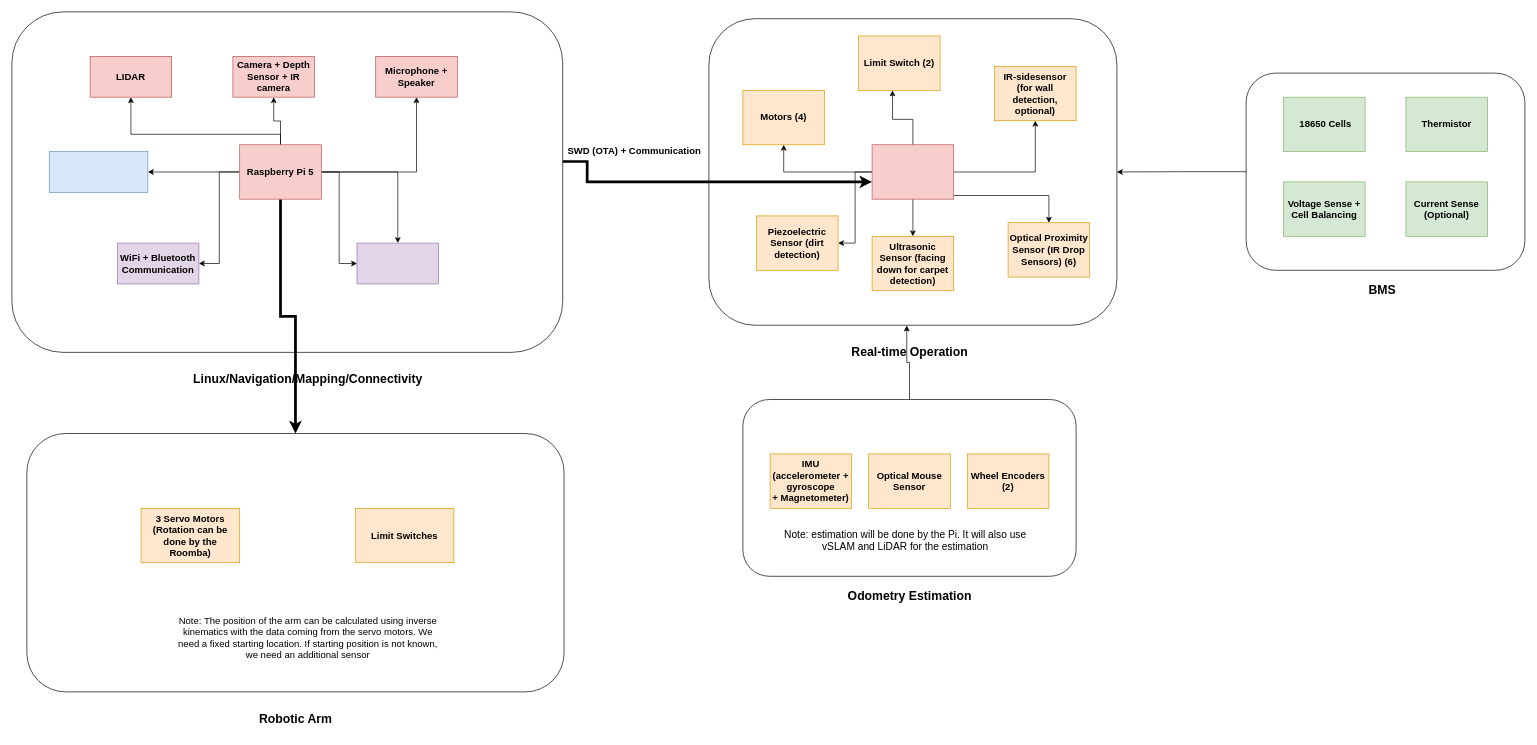
The diagram is 1537 pixels wide and 745 high, and some of its shapes have lost their labels. Each missing label, with the box of its shape:
Cloud Server: (356, 242, 439, 284)
Debug Interfaces (USB-C): (49, 151, 148, 192)
MCU: (871, 144, 954, 199)
